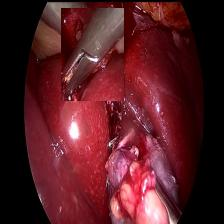Grasper: (60, 7, 123, 100)
